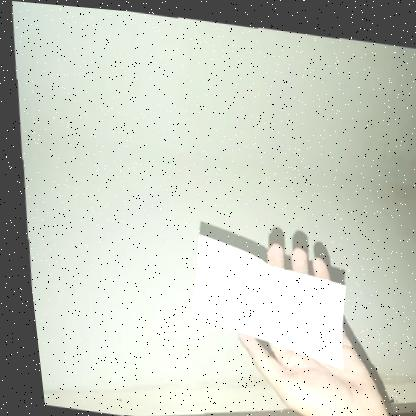two_hundred-back-vef: (174, 227, 350, 365)
